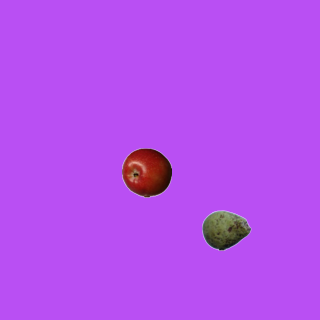Apple Braeburn: (121, 147, 171, 197)
Pear Stone: (201, 205, 251, 255)
